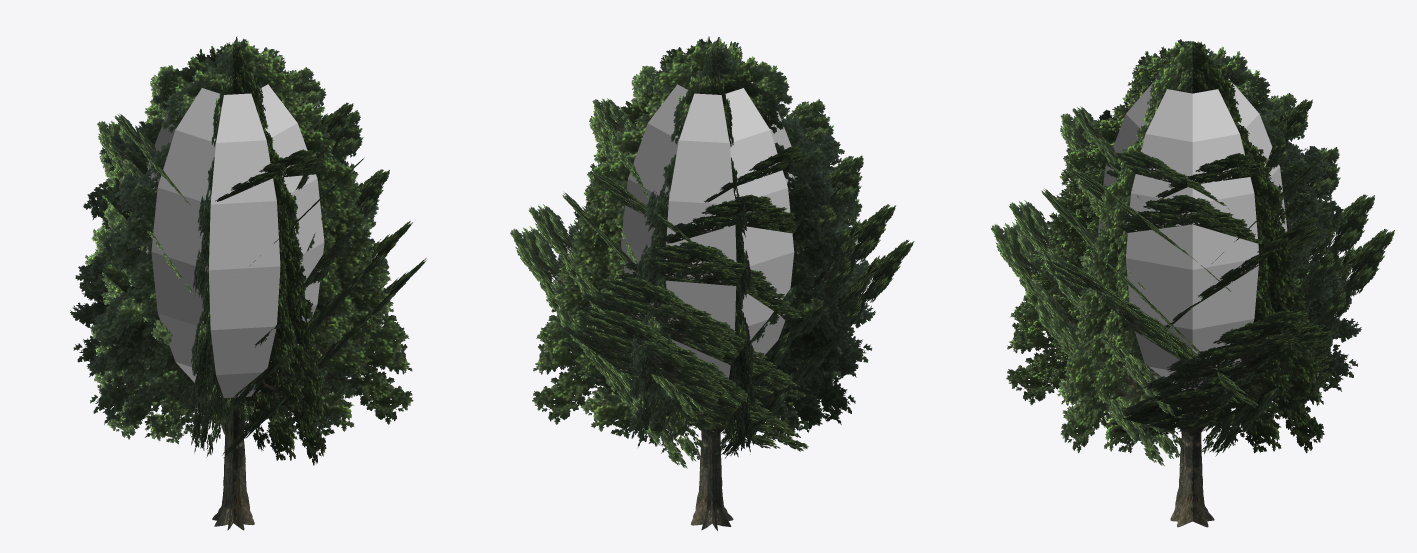
File: Tree_06_WithBlob_Cutout.fbx
3 renders of one model, left to right at view 1: azimuth 30°, elevation 25°; view 2: azimuth 150°, elevation 25°; view 3: azimuth 270°, elevation 25°, orthographic.
Parts seen in each view (by area): view 1: Tree_06; view 2: Tree_06; view 3: Tree_06.
Part boxes in pixels (box(x1,y1,x2,y2)): Tree_06: box(70, 36, 426, 530); Tree_06: box(510, 36, 914, 530); Tree_06: box(991, 39, 1394, 527).
Size of the model in its own units: 1240 by 1420 by 1164.
